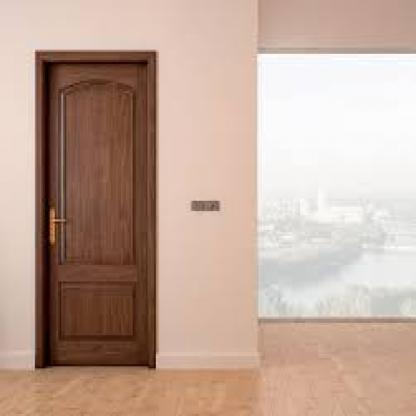Door: (36, 54, 153, 369)
